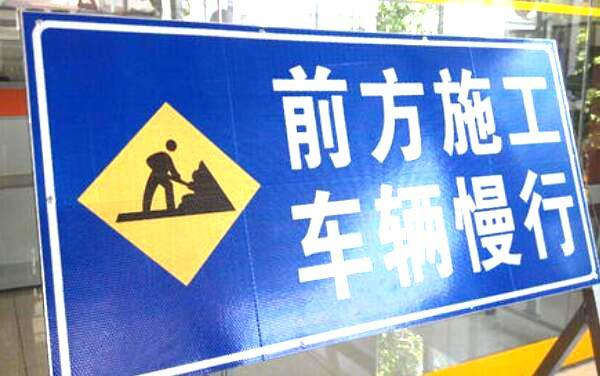sign: (37, 28, 572, 334)
